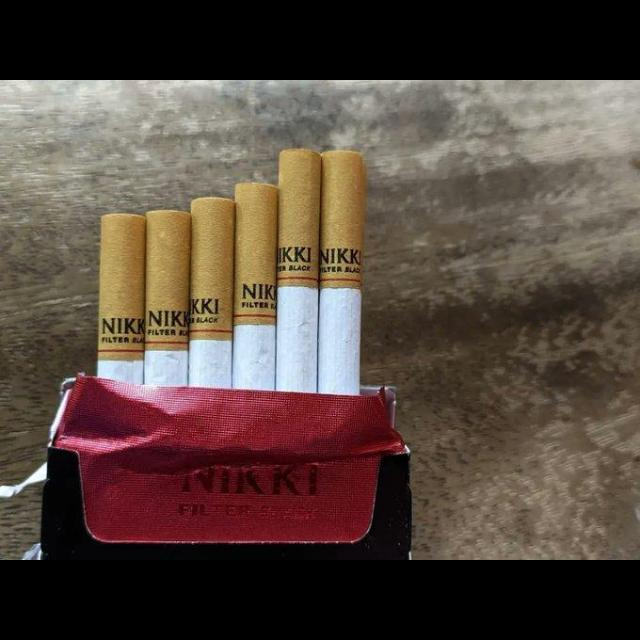rokok: (234, 178, 280, 386), (322, 150, 361, 394), (280, 146, 318, 392), (94, 210, 146, 386), (187, 197, 233, 391), (146, 204, 188, 386)
